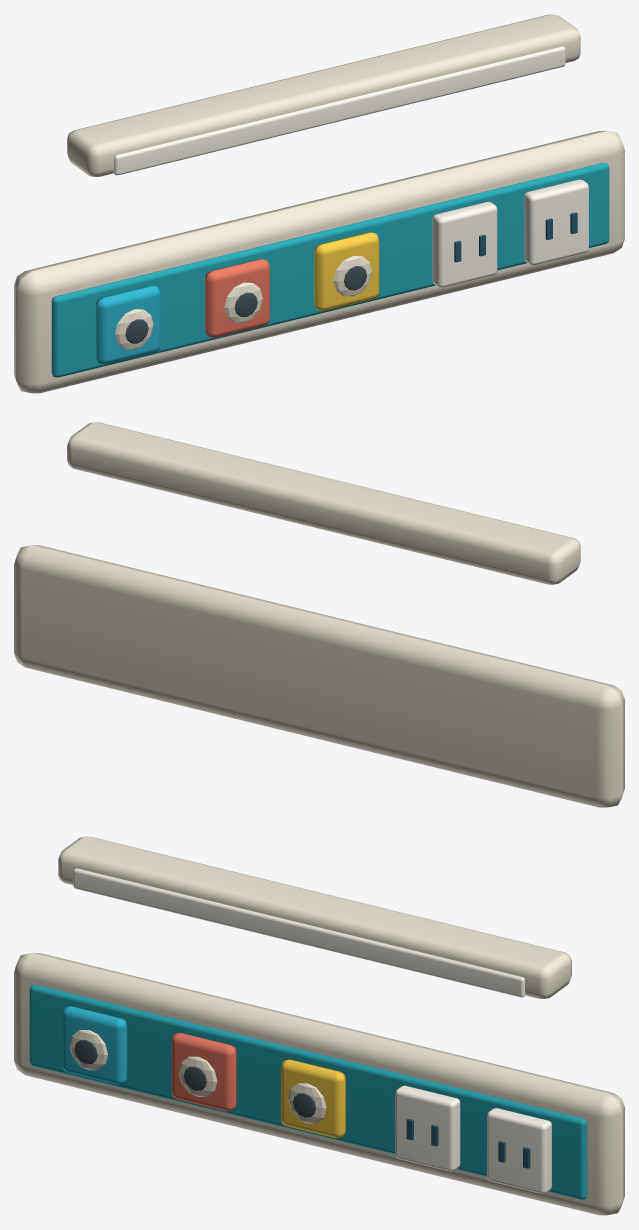
The model's file is Clinical_Service_Headwall.glb.
3 renders of one model, top to bottom at view 1: azimuth 30°, elevation 25°; view 2: azimuth 150°, elevation 25°; view 3: azimuth 330°, elevation 25°, orthographic.
Parts seen in each view (by area): view 1: Clinical_Service_Headwall_cream, Clinical_Service_Headwall_teal, Clinical_Service_Headwall_paper, Clinical_Service_Headwall_blue, Clinical_Service_Headwall_gold, Clinical_Service_Headwall_coral, Clinical_Service_Headwall_dark, Clinical_Service_Headwall_navy; view 2: Clinical_Service_Headwall_cream; view 3: Clinical_Service_Headwall_cream, Clinical_Service_Headwall_teal, Clinical_Service_Headwall_paper, Clinical_Service_Headwall_blue, Clinical_Service_Headwall_coral, Clinical_Service_Headwall_gold, Clinical_Service_Headwall_dark, Clinical_Service_Headwall_navy.
Part boxes in pixels (left/top/right/bottom): Clinical_Service_Headwall_cream: left=14, top=14, right=624, bottom=393; Clinical_Service_Headwall_teal: left=51, top=163, right=609, bottom=377; Clinical_Service_Headwall_paper: left=113, top=46, right=588, bottom=287; Clinical_Service_Headwall_blue: left=95, top=286, right=160, bottom=364; Clinical_Service_Headwall_gold: left=314, top=232, right=379, bottom=310; Clinical_Service_Headwall_coral: left=205, top=259, right=269, bottom=337; Clinical_Service_Headwall_dark: left=125, top=266, right=366, bottom=343; Clinical_Service_Headwall_navy: left=454, top=212, right=577, bottom=262; Clinical_Service_Headwall_cream: left=14, top=422, right=624, bottom=807; Clinical_Service_Headwall_cream: left=14, top=836, right=624, bottom=1215; Clinical_Service_Headwall_teal: left=29, top=985, right=587, bottom=1199; Clinical_Service_Headwall_paper: left=73, top=868, right=551, bottom=1193; Clinical_Service_Headwall_blue: left=62, top=1006, right=127, bottom=1084; Clinical_Service_Headwall_coral: left=171, top=1033, right=236, bottom=1111; Clinical_Service_Headwall_gold: left=281, top=1059, right=345, bottom=1137; Clinical_Service_Headwall_dark: left=74, top=1040, right=316, bottom=1117; Clinical_Service_Headwall_navy: left=406, top=1118, right=530, bottom=1168.
Bounding box in the file's own units: 1.72 × 0.67 × 0.178.
